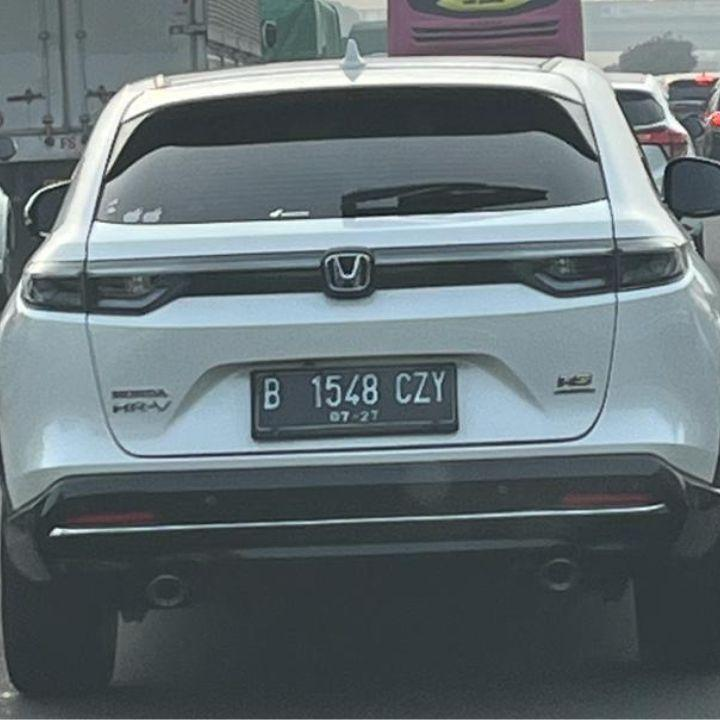plat: (252, 364, 458, 440)
